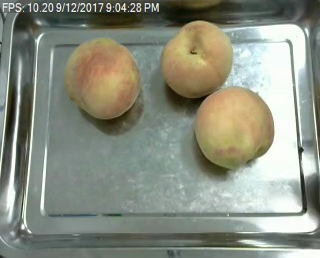Peach: (194, 85, 275, 169), (63, 38, 140, 119), (162, 20, 232, 98)
